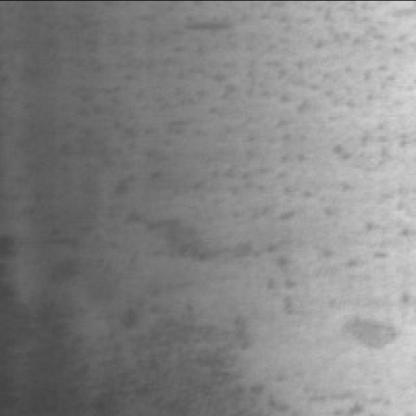pitted_surface: (60, 0, 409, 410)
